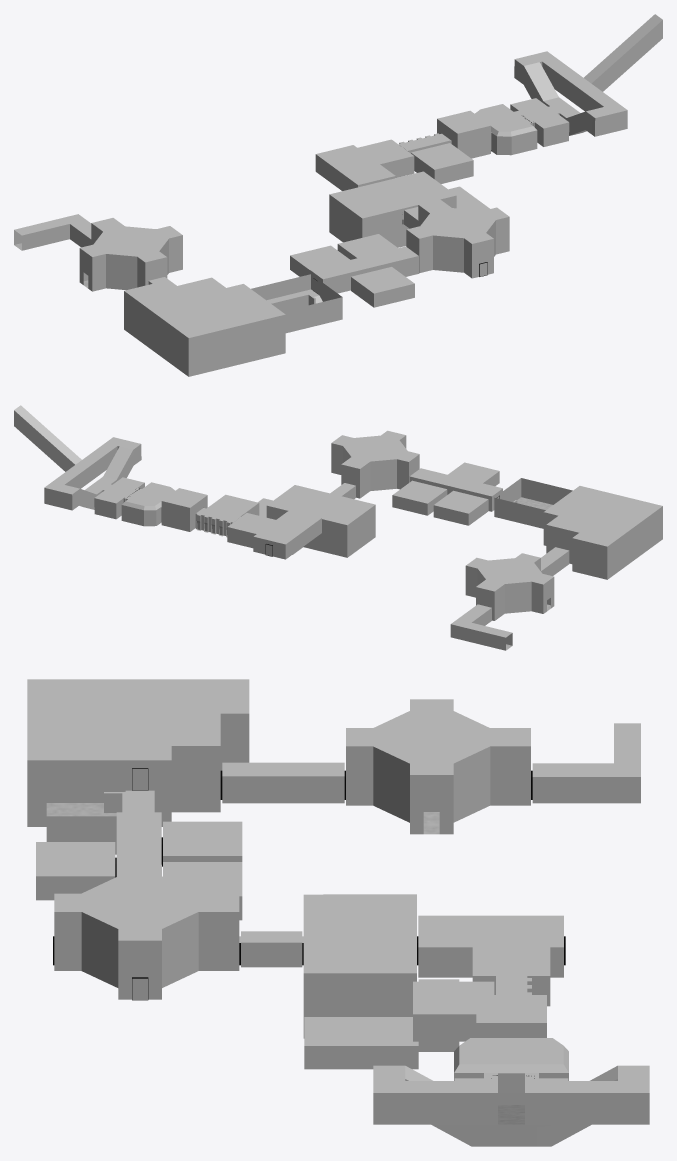
3 renders of one model, top to bottom at view 1: azimuth 30°, elevation 25°; view 2: azimuth 150°, elevation 25°; view 3: azimuth 270°, elevation 25°, orthographic. The views are drawn at different scales.
Parts seen in each view (by area): view 1: SCP DOORS NORMAL.021_Baked, SCP DOORS NORMAL.025_Baked, Cube.023_Baked, Cube.002_Baked, Room.001_Baked, 4Way Room_Baked, 4Way Room.001_Baked, SCP DOORS NORMAL.022_Baked, 4Way Room.006_Baked, 4Way Room.002_Baked, Cube.001_Baked, room_Baked (+9 smaller); view 2: Cube.023_Baked, SCP DOORS NORMAL.025_Baked, SCP DOORS NORMAL.021_Baked, Cube.002_Baked, Room.001_Baked, room_Baked, 4Way Room.001_Baked, 4Way Room_Baked, SCP DOORS NORMAL.022_Baked, 4Way Room.006_Baked, 4Way Room.002_Baked, 4Way Room.005_Baked (+11 smaller); view 3: SCP DOORS NORMAL.025_Baked, Cube.002_Baked, Cube.023_Baked, 4Way Room.001_Baked, 4Way Room_Baked, Room.001_Baked, SCP DOORS NORMAL.021_Baked, 4Way Room.006_Baked, 4Way Room.002_Baked, Cube.020_Baked, SCP DOORS NORMAL.022_Baked, room_Baked (+9 smaller).
Boxes of the visible parts, left/top/right/bottom form: SCP DOORS NORMAL.021_Baked: left=124, top=291, right=285, bottom=376; SCP DOORS NORMAL.025_Baked: left=124, top=277, right=285, bottom=337; Cube.023_Baked: left=329, top=171, right=456, bottom=247; Cube.002_Baked: left=514, top=51, right=627, bottom=136; Room.001_Baked: left=315, top=139, right=414, bottom=190; 4Way Room_Baked: left=406, top=205, right=509, bottom=278; 4Way Room.001_Baked: left=79, top=223, right=182, bottom=291; SCP DOORS NORMAL.022_Baked: left=251, top=274, right=342, bottom=333; 4Way Room.006_Baked: left=407, top=199, right=509, bottom=243; 4Way Room.002_Baked: left=80, top=218, right=182, bottom=262; Cube.001_Baked: left=584, top=14, right=662, bottom=91; room_Baked: left=290, top=234, right=397, bottom=276; Cube.023_Baked: left=266, top=485, right=375, bottom=557; SCP DOORS NORMAL.025_Baked: left=544, top=486, right=662, bottom=546; SCP DOORS NORMAL.021_Baked: left=543, top=506, right=662, bottom=579; Cube.002_Baked: left=44, top=437, right=141, bottom=510; Room.001_Baked: left=227, top=510, right=321, bottom=559; room_Baked: left=392, top=480, right=488, bottom=525; 4Way Room.001_Baked: left=465, top=558, right=554, bottom=620; 4Way Room_Baked: left=331, top=435, right=419, bottom=498; SCP DOORS NORMAL.022_Baked: left=494, top=478, right=572, bottom=528; 4Way Room.006_Baked: left=331, top=430, right=419, bottom=468; 4Way Room.002_Baked: left=466, top=553, right=553, bottom=591; 4Way Room.005_Baked: left=450, top=604, right=512, bottom=650; SCP DOORS NORMAL.025_Baked: left=27, top=679, right=249, bottom=760; Cube.002_Baked: left=373, top=1065, right=649, bottom=1146; Cube.023_Baked: left=303, top=894, right=416, bottom=1038; 4Way Room.001_Baked: left=346, top=746, right=530, bottom=834; 4Way Room_Baked: left=54, top=912, right=239, bottom=999; Room.001_Baked: left=418, top=915, right=563, bottom=1006; SCP DOORS NORMAL.021_Baked: left=27, top=713, right=249, bottom=826; 4Way Room.006_Baked: left=54, top=864, right=239, bottom=940; 4Way Room.002_Baked: left=346, top=699, right=530, bottom=774; Cube.020_Baked: left=304, top=979, right=459, bottom=1069; SCP DOORS NORMAL.022_Baked: left=46, top=764, right=154, bottom=854; room_Baked: left=163, top=821, right=242, bottom=920.
Bounding box in the file's own units: 8921 × 1510 × 4585.
Materials: 1 (1 with a texture image).
